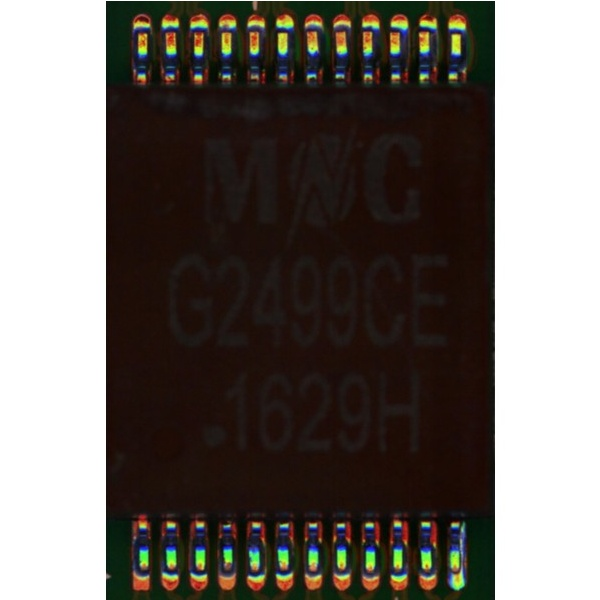Bad_podu: (451, 564, 460, 580)
Bad_qiaojiao: (458, 520, 464, 567)
